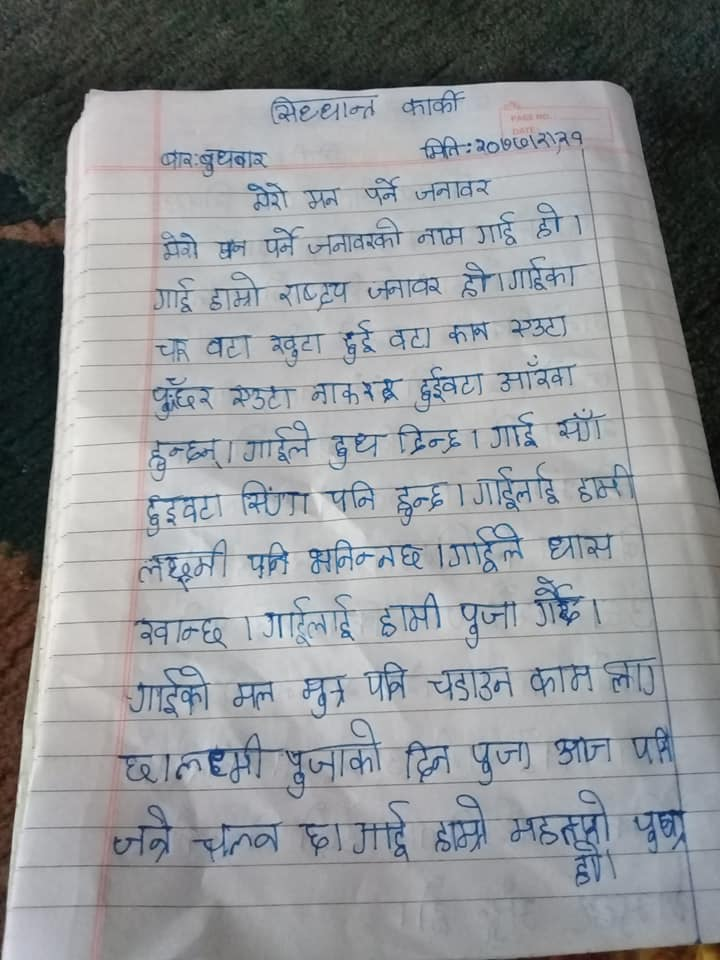text: (280, 716, 385, 799), (508, 789, 613, 846), (260, 592, 356, 645), (302, 535, 426, 576), (126, 663, 214, 720), (176, 732, 266, 785), (134, 540, 229, 590), (470, 463, 563, 512), (349, 798, 418, 861), (306, 216, 403, 259), (426, 661, 519, 705), (132, 612, 233, 652), (261, 92, 381, 125), (447, 524, 528, 571), (431, 794, 491, 857), (140, 490, 225, 534), (111, 803, 174, 862), (474, 125, 588, 157), (143, 433, 222, 479), (493, 351, 580, 392), (241, 418, 315, 466), (192, 821, 285, 858), (456, 598, 524, 648), (469, 735, 537, 785), (415, 364, 485, 412), (237, 477, 313, 521), (527, 576, 587, 630), (504, 254, 586, 293), (150, 375, 217, 422), (380, 592, 445, 639), (600, 653, 665, 700), (390, 477, 452, 525), (527, 659, 598, 699), (630, 806, 689, 853), (324, 427, 390, 469), (195, 142, 271, 178), (574, 463, 637, 506), (395, 421, 467, 457), (267, 327, 328, 369), (296, 671, 350, 718), (400, 737, 454, 784), (540, 531, 618, 563), (358, 660, 413, 704), (206, 270, 263, 312), (277, 279, 353, 310), (365, 273, 444, 302), (626, 727, 678, 771), (550, 732, 615, 766), (487, 411, 542, 451), (408, 177, 495, 202), (337, 316, 379, 367), (555, 406, 612, 443), (224, 382, 296, 411), (245, 540, 292, 582), (471, 210, 521, 249), (398, 90, 469, 117), (323, 482, 379, 516), (567, 841, 606, 888), (506, 311, 570, 339), (154, 274, 196, 316), (228, 677, 279, 711), (243, 178, 292, 213), (158, 226, 203, 264), (455, 257, 495, 298), (119, 747, 159, 788), (203, 330, 255, 361), (414, 222, 468, 251), (308, 381, 362, 409), (360, 174, 404, 208), (260, 224, 303, 258), (532, 198, 565, 241), (152, 333, 195, 366), (295, 182, 343, 211), (299, 819, 334, 858), (387, 324, 435, 352), (418, 132, 463, 161), (446, 317, 491, 346), (215, 233, 250, 261), (158, 145, 195, 171)
